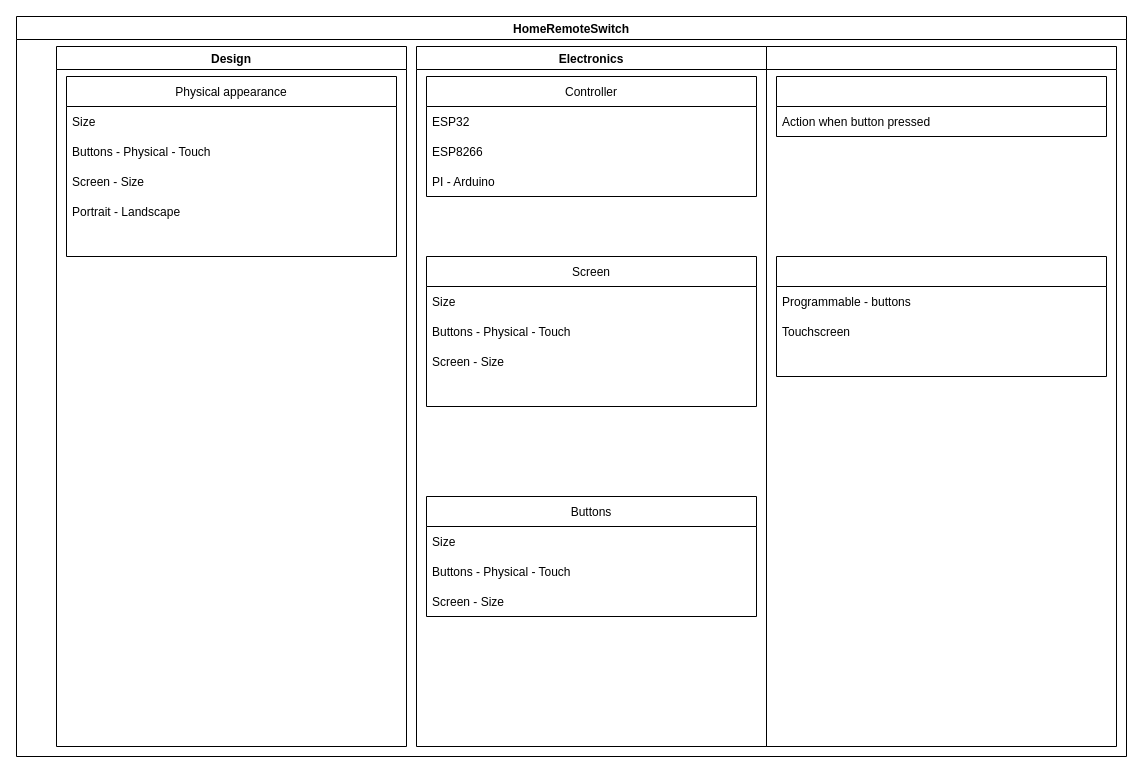
The diagram is 1143 pixels wide and 773 high, and some of its shapes have lost their labels. Each missing label, with the box of its shape:
Must have: (776, 76, 1106, 136)
Software: (766, 46, 1116, 746)
Wishlist: (776, 256, 1106, 376)
